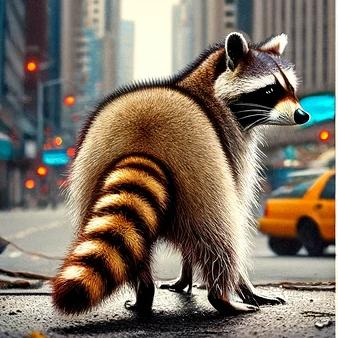raccoon: (41, 21, 319, 330)
